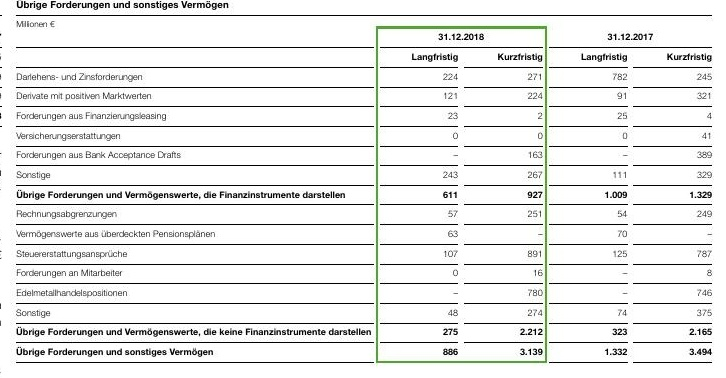table: (0, 0, 726, 378)
